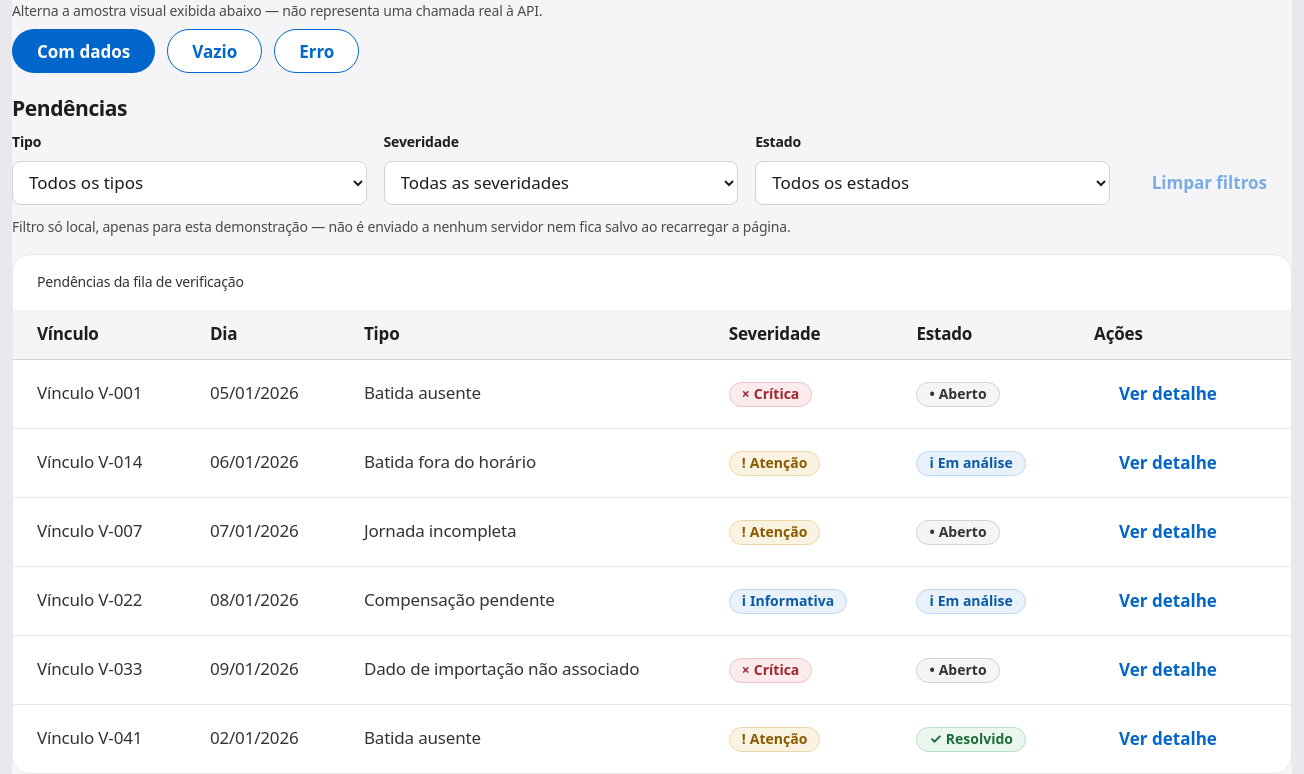
it: VerificarFolhasScreen (T045 — tela visual estática) › abre o detalhe demonstrativo e deixa explícito que nenhuma ação real ocorre
This screenshot has width=1304, height=774.
(page scrolled)
What coordinates should you click on to do the following:
click the button "Ver detalhe" in the row of "Vínculo V-001"
I would click on:
 (1168, 394)
Its box is [1094, 372, 1242, 416].
(page scrolled)
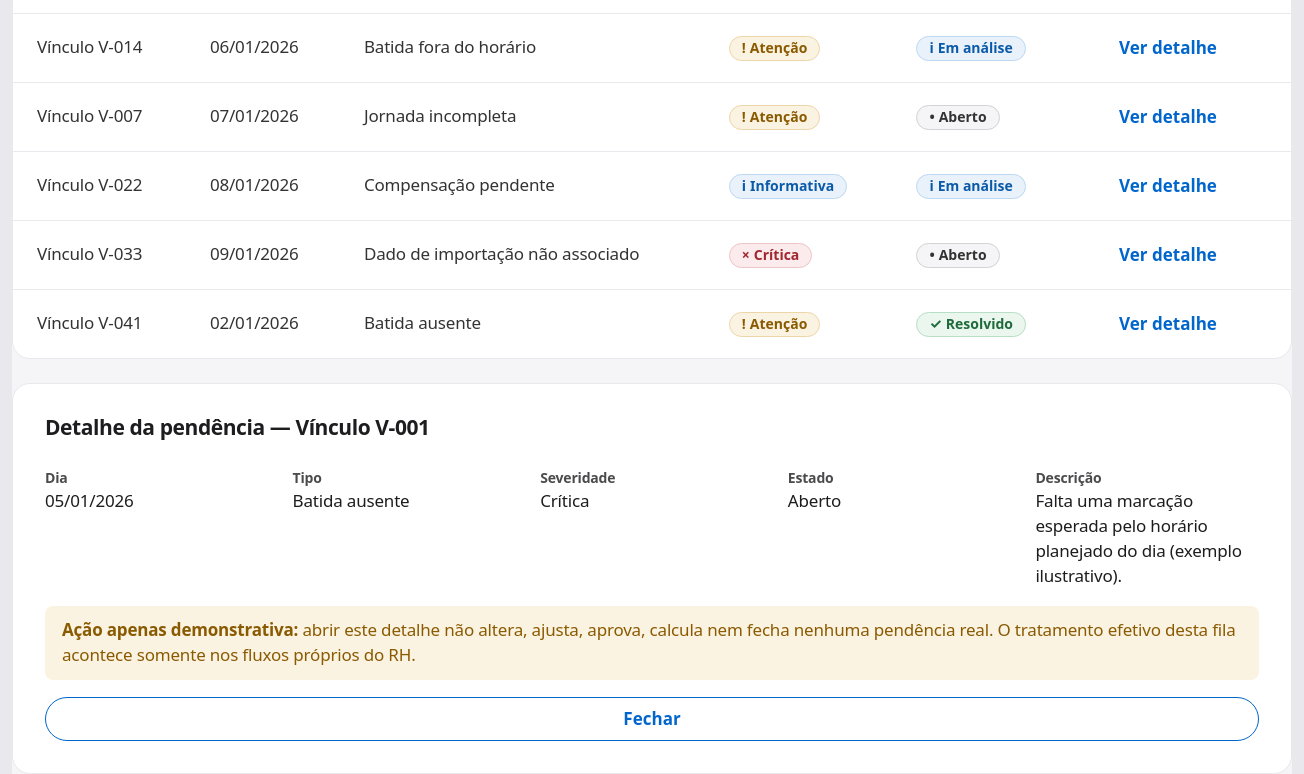
Expected: the heading "Detalhe da pendência — Vínculo V-001" is shown, [45, 413, 430, 441]
Expected: the text "Ação apenas demonstrativa:" is shown, [62, 618, 298, 641]
Expected: the text "não altera, ajusta, aprova, calcula nem fecha nenhuma pendência real" is shown, [62, 618, 1236, 666]
What coordinates should you click on to do the following:
click the button "Fechar"
I would click on:
 (652, 718)
Its box is [45, 696, 1259, 740].
(page scrolled)
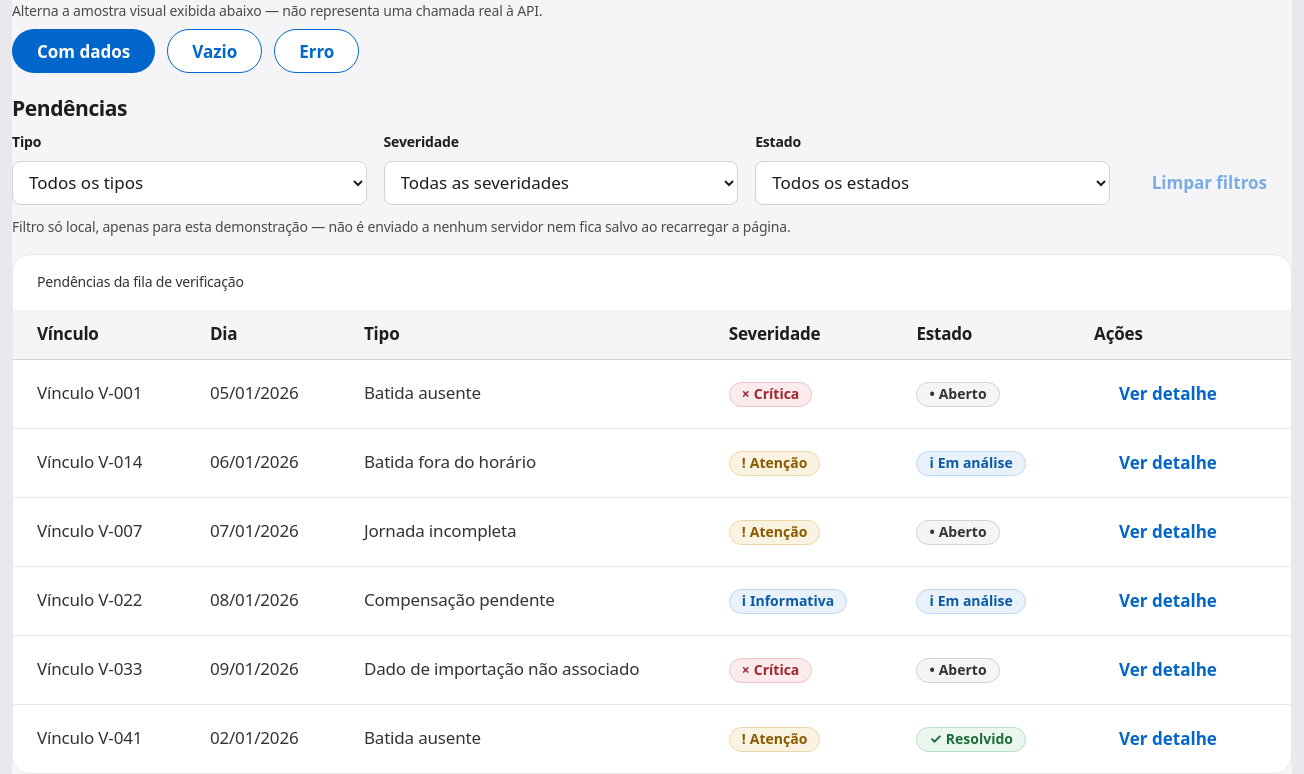
Expected: the heading "Detalhe da pendência" is gone
